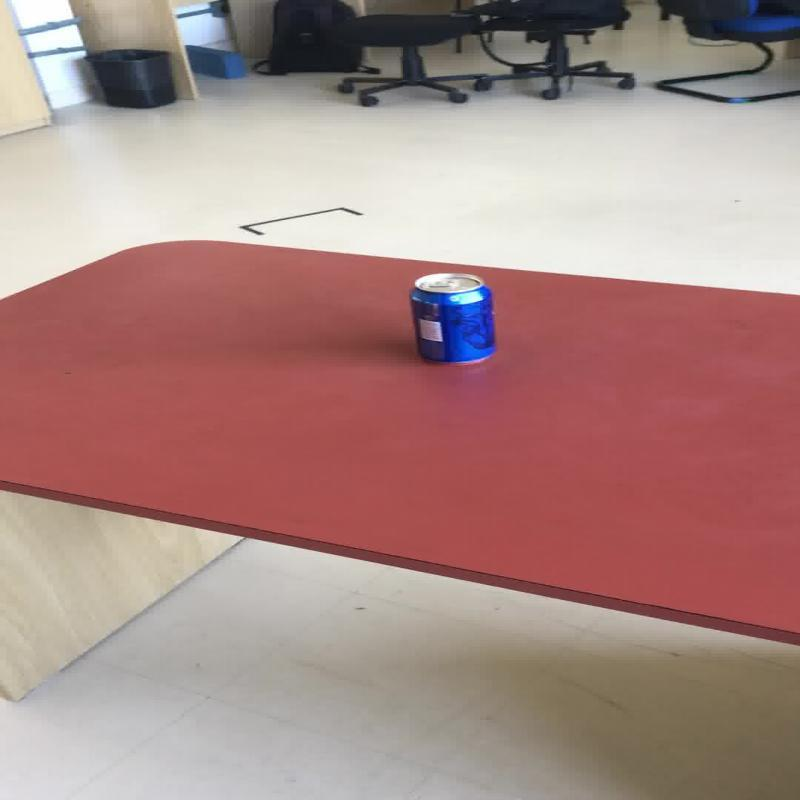tonic: (406, 272, 496, 364)
